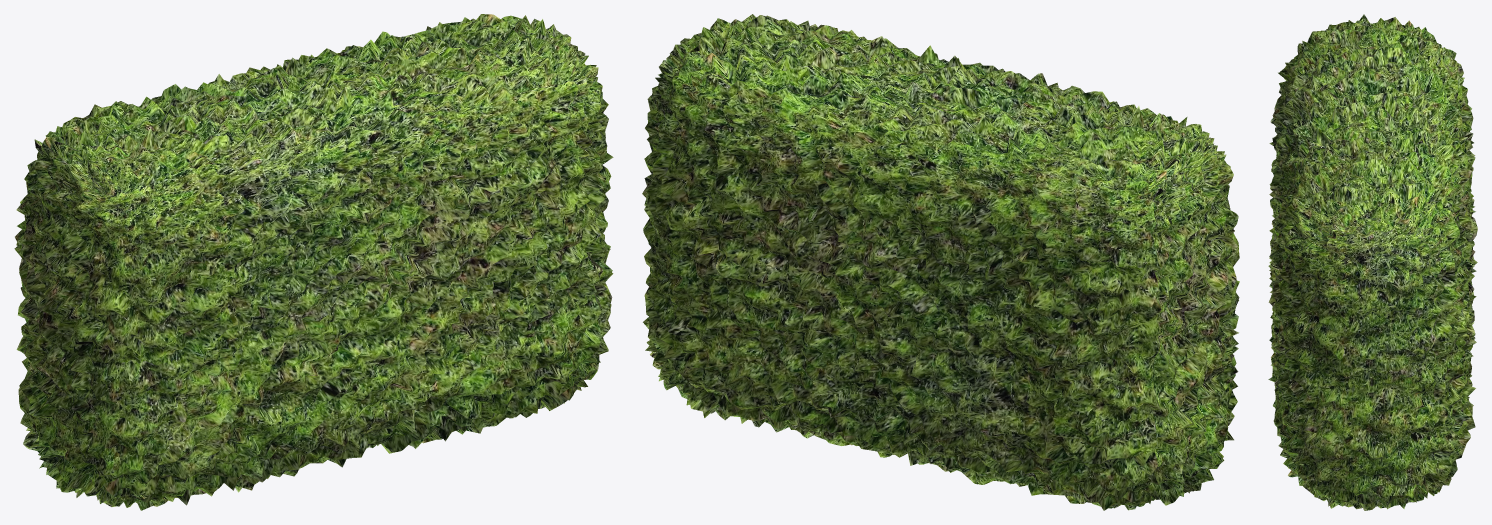
Rendered from hedge_generic.glb.
3 views of the same model, side by side, from view 1: azimuth 30°, elevation 25°; view 2: azimuth 150°, elevation 25°; view 3: azimuth 270°, elevation 25° (orthographic). The views are drawn at different scales.
Visible parts, largest first — view 1: Object_2; view 2: Object_2; view 3: Object_2.
Boxes of the visible parts, left/top/right/bottom form: Object_2: left=14, top=14, right=613, bottom=510; Object_2: left=642, top=14, right=1239, bottom=510; Object_2: left=1268, top=14, right=1477, bottom=510.
Size of the model in its own units: 155 by 100 by 59.38.
1 material, 1 textured.
